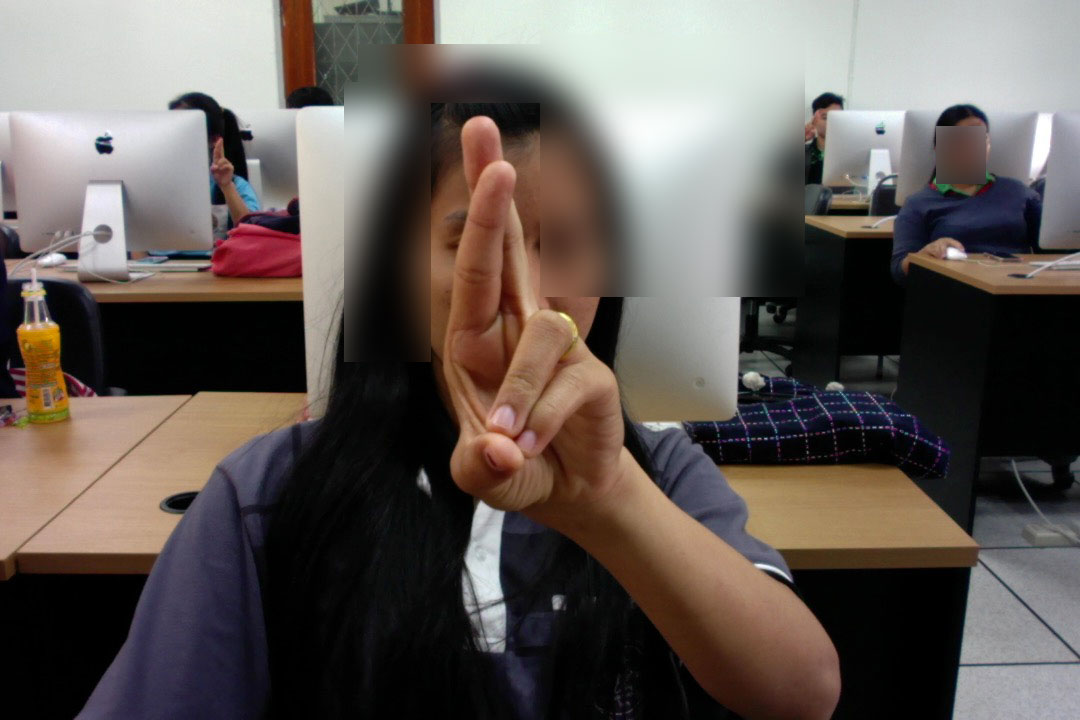rao: (418, 112, 638, 542)
